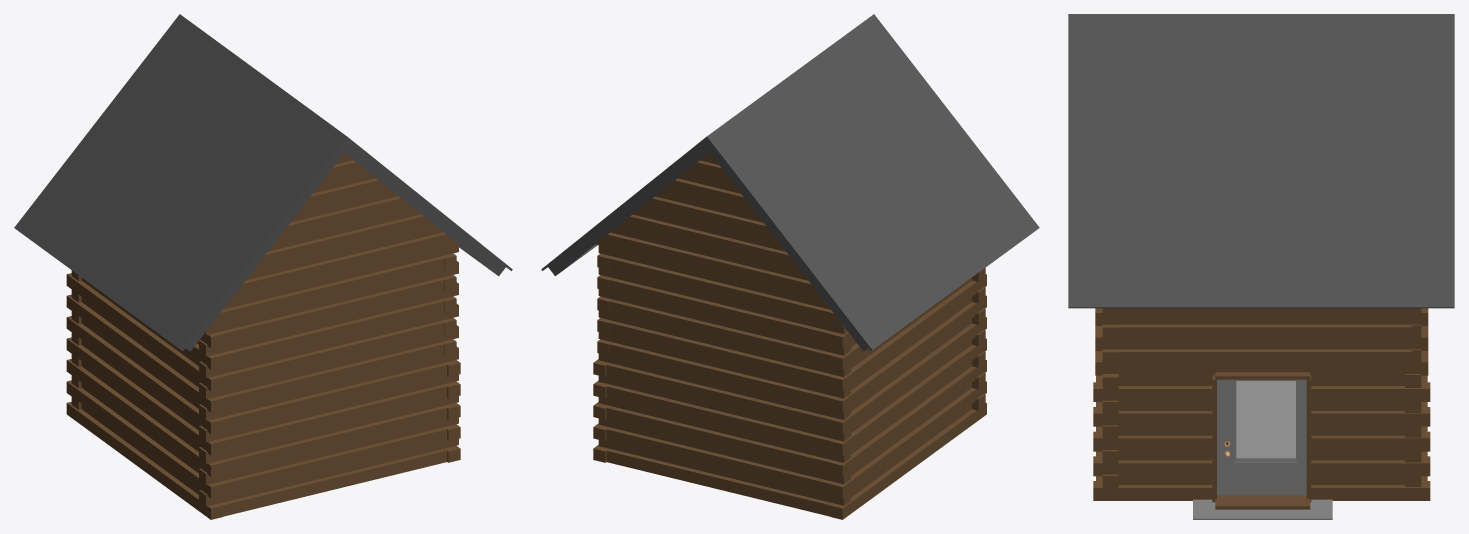
File: Cabin.fbx
The picture shows the model from 3 angles, left to right: view 1: azimuth 30°, elevation 25°; view 2: azimuth 150°, elevation 25°; view 3: azimuth 270°, elevation 25°; orthographic projection. The views are drawn at different scales.
Parts seen in each view (by area): view 1: pCube49; view 2: pCube49; view 3: pCube49.
Boxes of the visible parts, x1,y1,x2,y2 form: pCube49: (14,14,512,519); pCube49: (541,14,1039,519); pCube49: (1068,14,1454,519).
Size of the model in its own units: 737 by 769 by 645.
